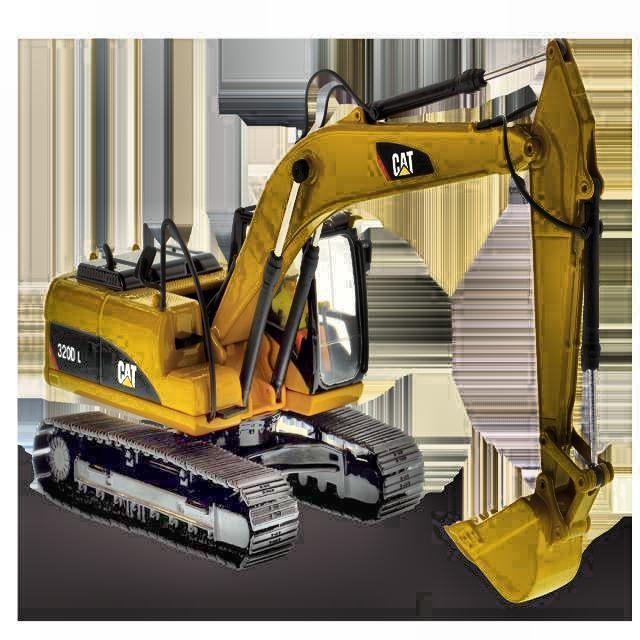excavator: (32, 36, 612, 608)
